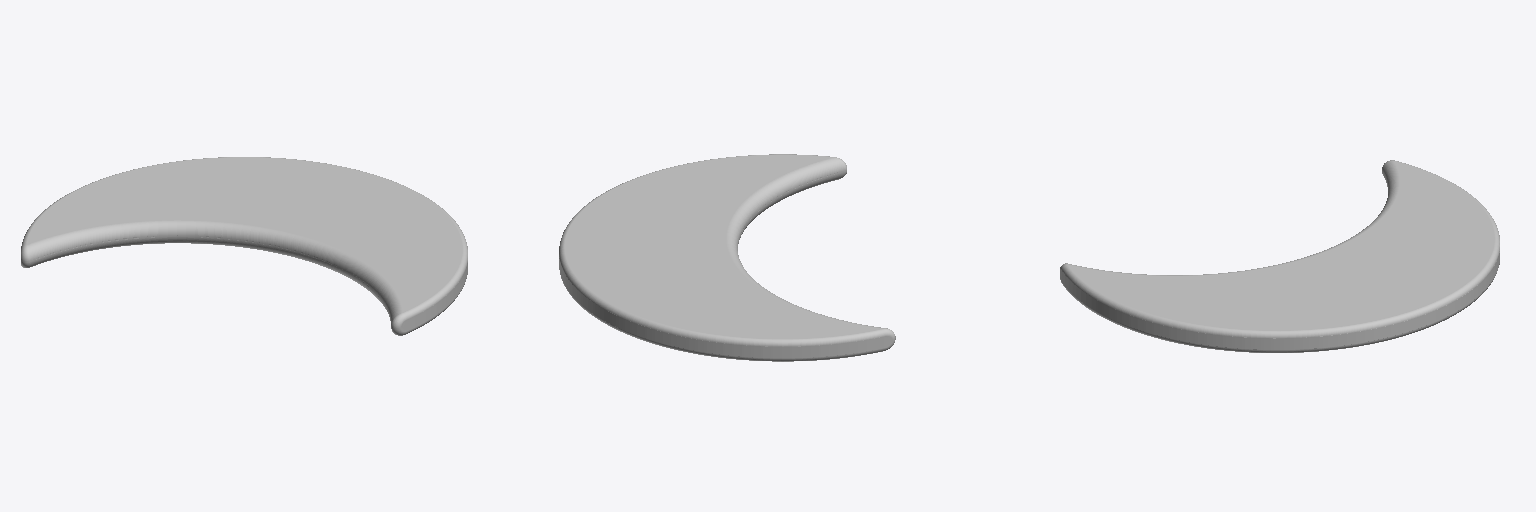
The model's file is palash2.obj.
3 renders of one model, left to right at view 1: azimuth 30°, elevation 25°; view 2: azimuth 150°, elevation 25°; view 3: azimuth 270°, elevation 25°, orthographic.
Visible parts, largest first — view 1: Palash; view 2: Palash; view 3: Palash.
Boxes of the visible parts, <box> form: Palash: <box>21,157,467,335</box>; Palash: <box>559,154,895,361</box>; Palash: <box>1060,160,1499,352</box>.
Bounding box in the file's own units: 494 × 28.7 × 522.